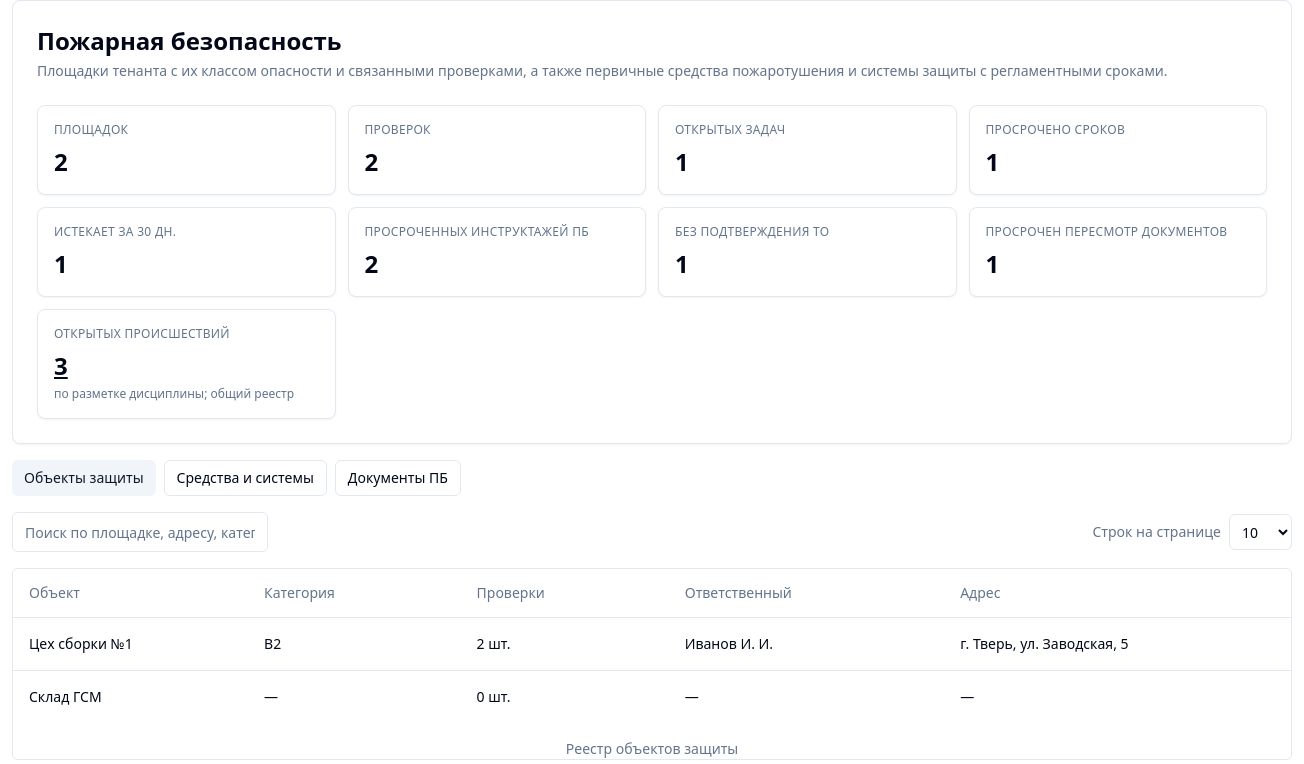
Test: FireSafetyPage › списанное средство видно в реестре и не путается с эксплуатируемым (срез-111)
The width and height of the screenshot is (1304, 764).
Click the button "Средства и системы".
click(245, 478)  # box [164,460,327,496]
(page scrolled)
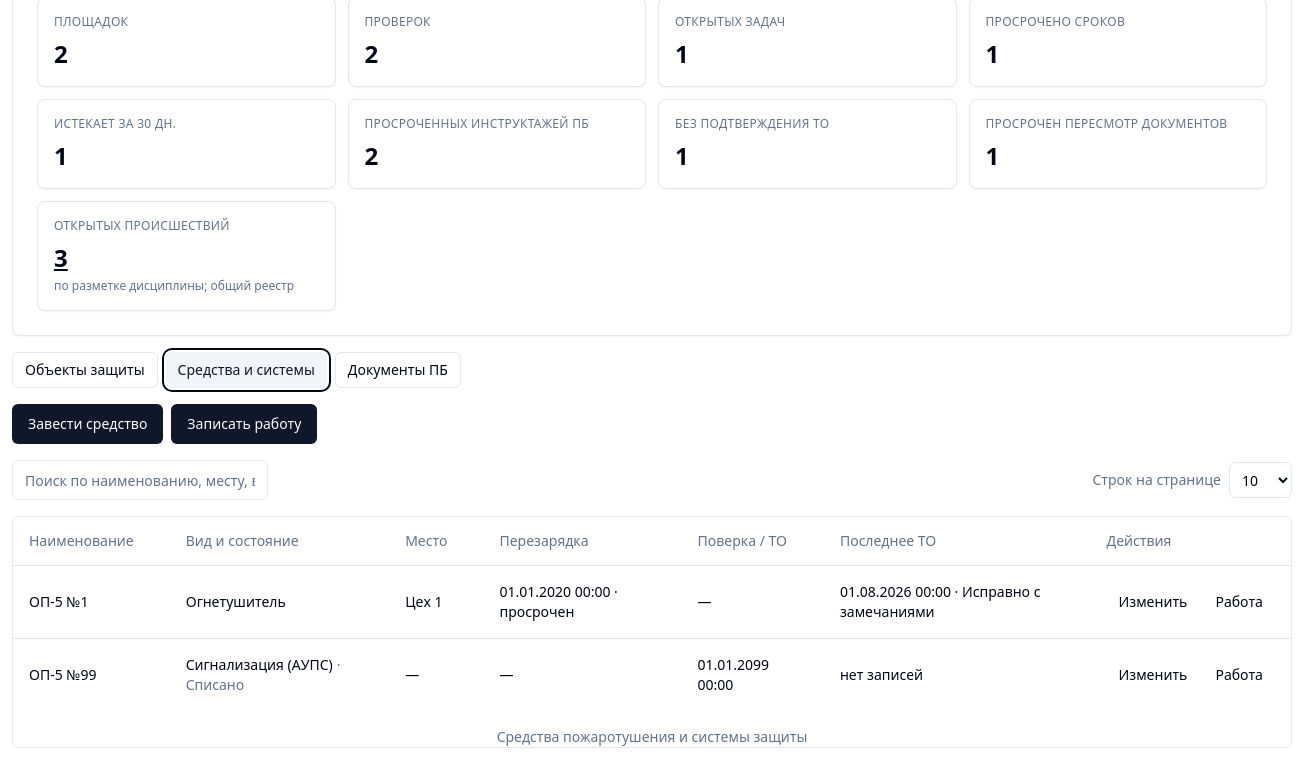
Now the text "ОП-5 №99" is shown, box [13,638,170,710]
Now the text "· Списано" is shown, box [186,654,340,694]
